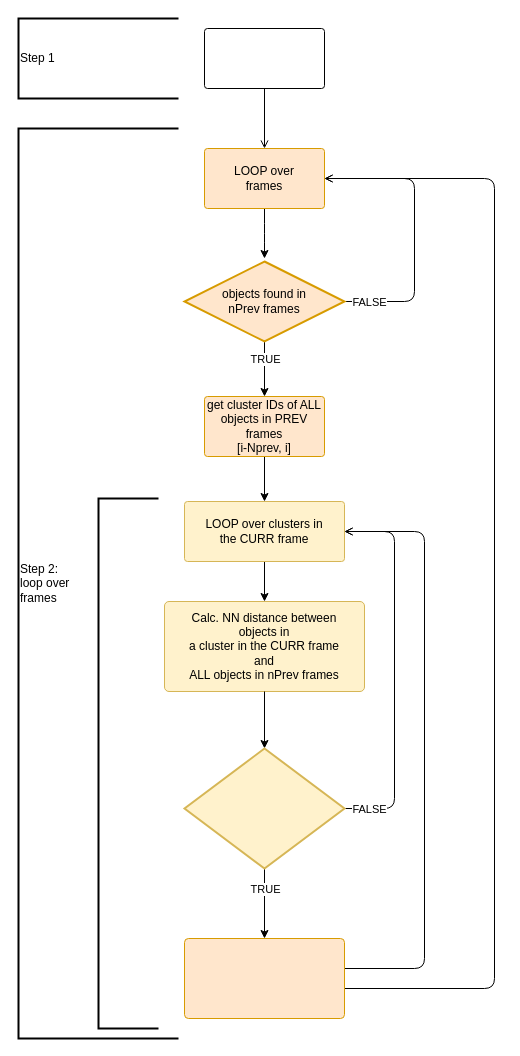
The diagram is 520 pixels wide and 1056 high, and some of its shapes have lost their labels. Each missing label, with the centre of its shape:
Assign cluster numbers of objects within EPS from nPrev to current cluster: the point at 264,978
Cluster objects with dbscan in every frame: the point at 264,58
Loop over existing clusters in the current frame: the point at 128,763
objects found within EPS in nPrev frames: the point at 264,808
